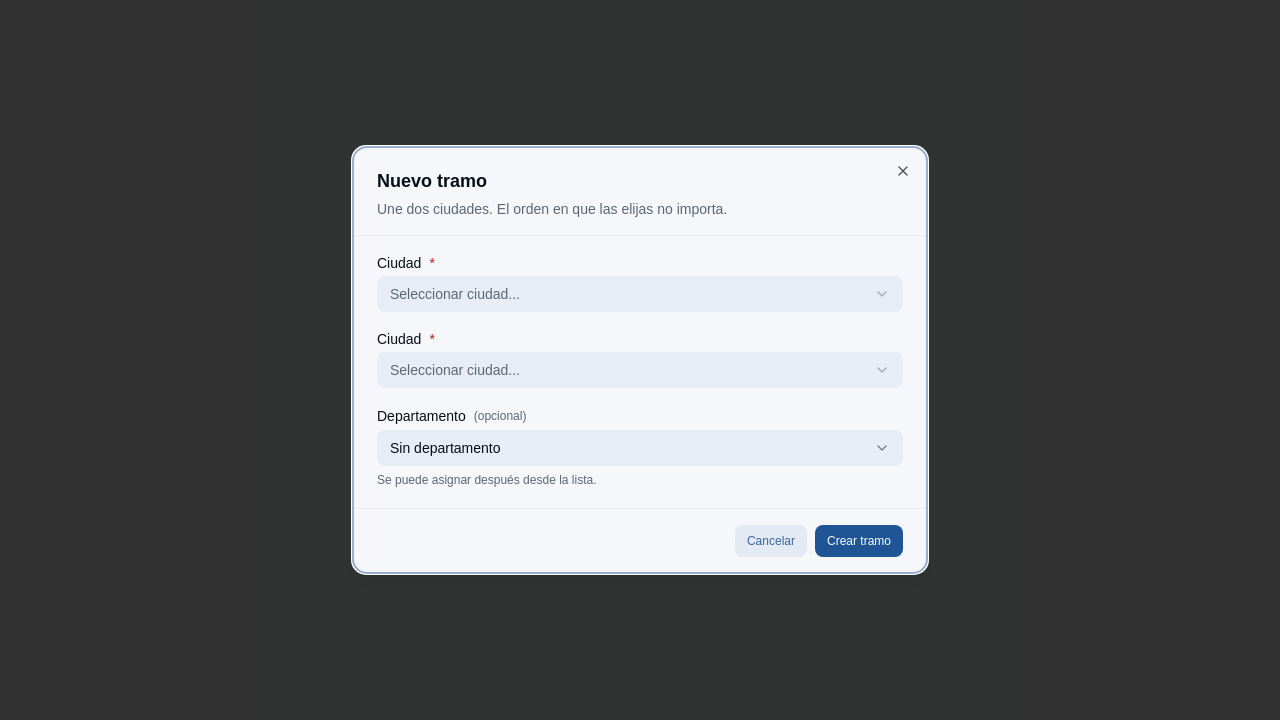
Scenario: the tramo dialog › uses the lists it was handed and does not ask for options
Click the button with aria-label "Ciudad, un extremo" at (455, 294), box [377,276,903,312]
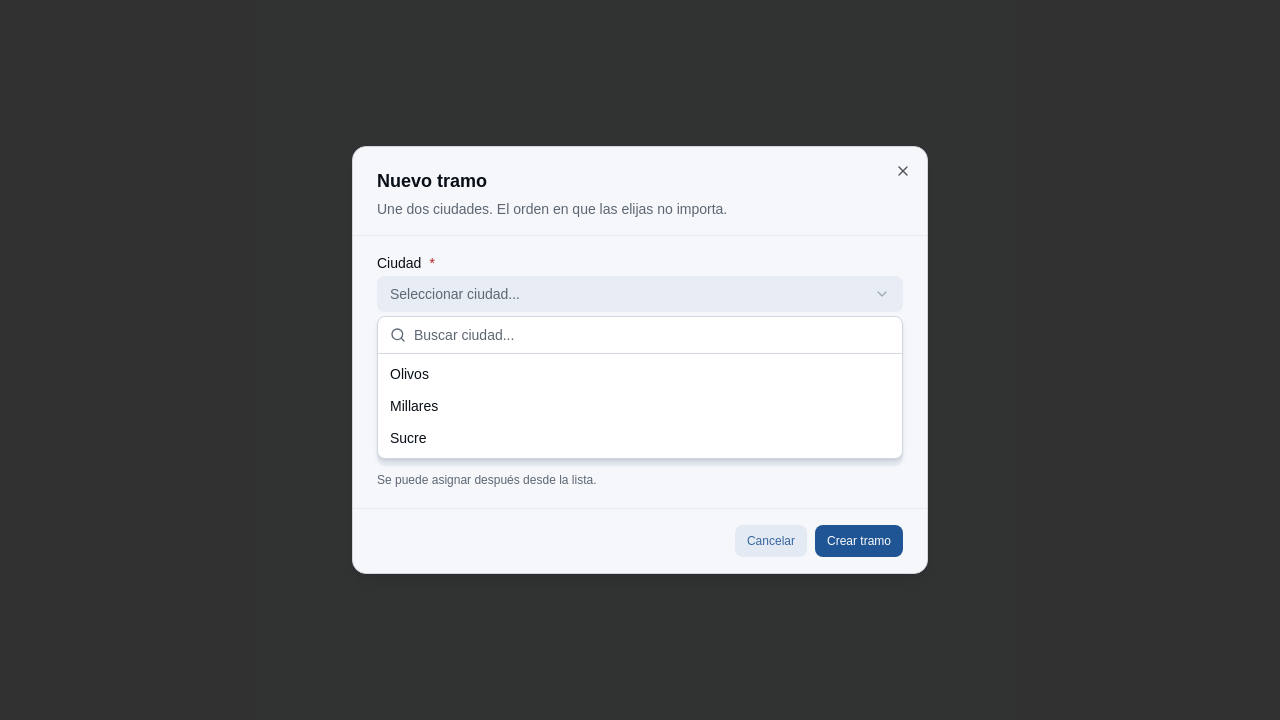
Now the button "Sucre" is shown, box [382,422,898,454]
